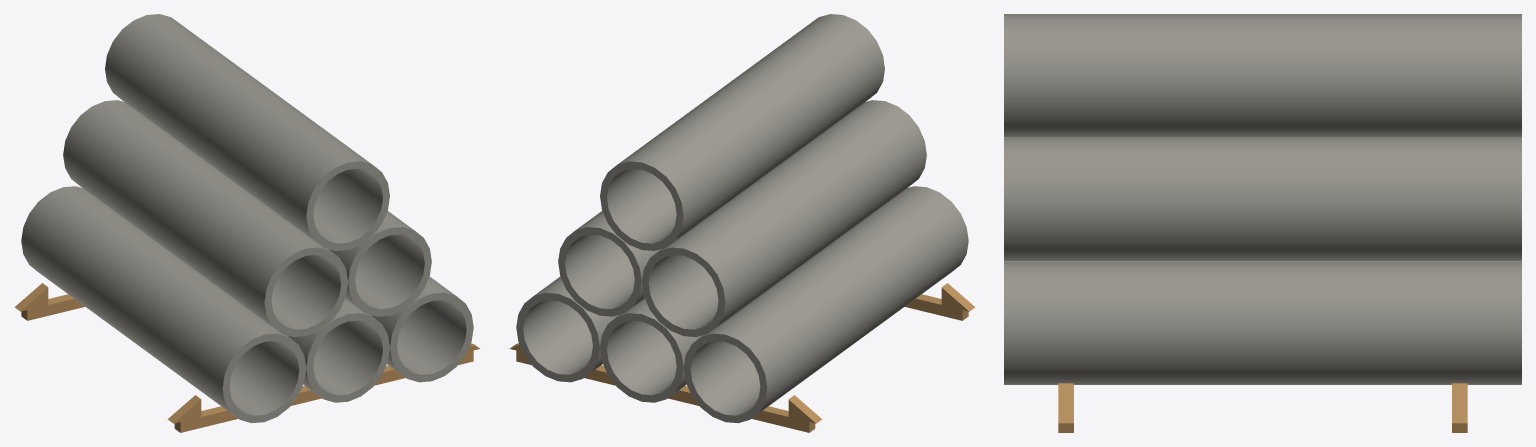
The model's file is plant.store.concrete_pipes.glb.
The picture shows the model from 3 angles, left to right: view 1: azimuth 30°, elevation 25°; view 2: azimuth 150°, elevation 25°; view 3: azimuth 270°, elevation 25°; orthographic projection. The views are drawn at different scales.
Parts seen in each view (by area): view 1: main__concrete, main__softwood; view 2: main__concrete, main__softwood; view 3: main__concrete, main__softwood.
Part boxes in pixels (bbox=[...]): main__concrete: bbox=[21, 14, 473, 423]; main__softwood: bbox=[14, 283, 479, 432]; main__concrete: bbox=[516, 14, 968, 423]; main__softwood: bbox=[510, 283, 975, 432]; main__concrete: bbox=[1004, 14, 1521, 384]; main__softwood: bbox=[1058, 383, 1467, 432].
Size of the model in its own units: 2.2 by 1.71 by 2.5.
